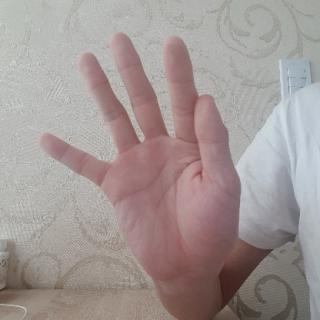SHEEN: (34, 28, 249, 320)
